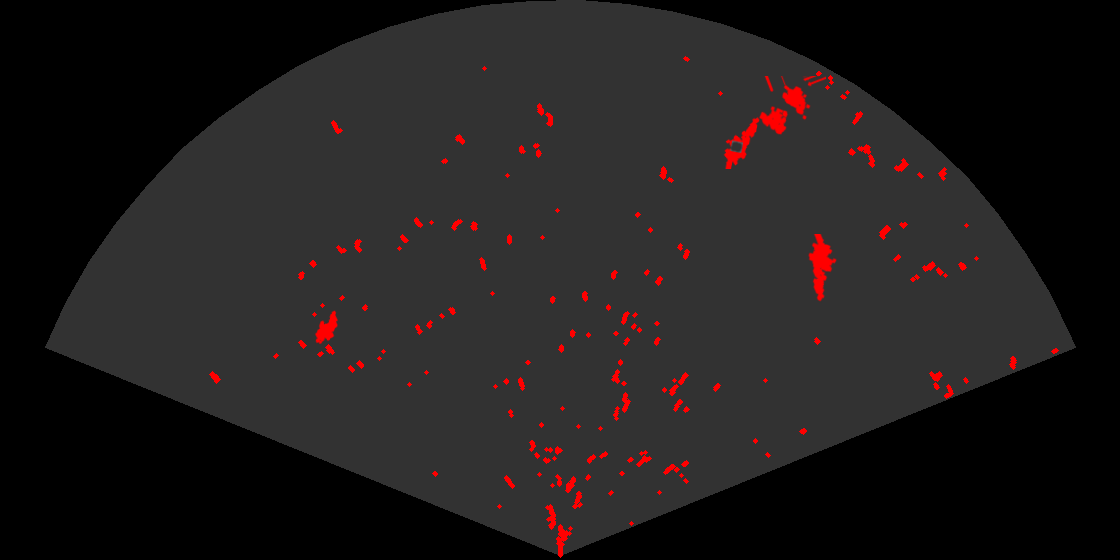AUV: (313, 309, 340, 346)
cage: (757, 76, 826, 136)
frogman: (807, 234, 838, 303), (722, 115, 761, 169)
